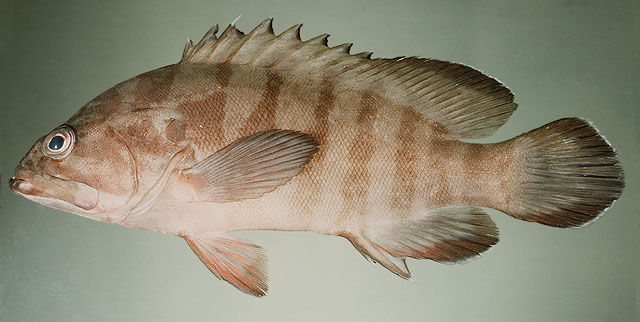fish: (8, 15, 627, 298)
